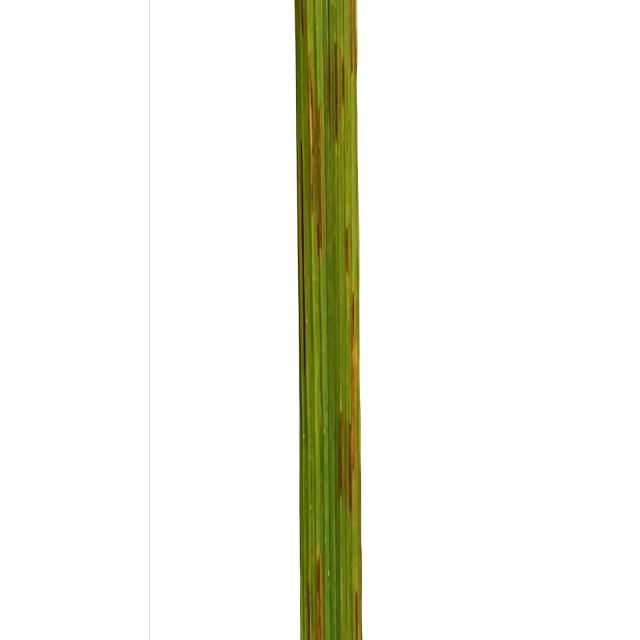Narrow brown: (245, 0, 550, 640)
